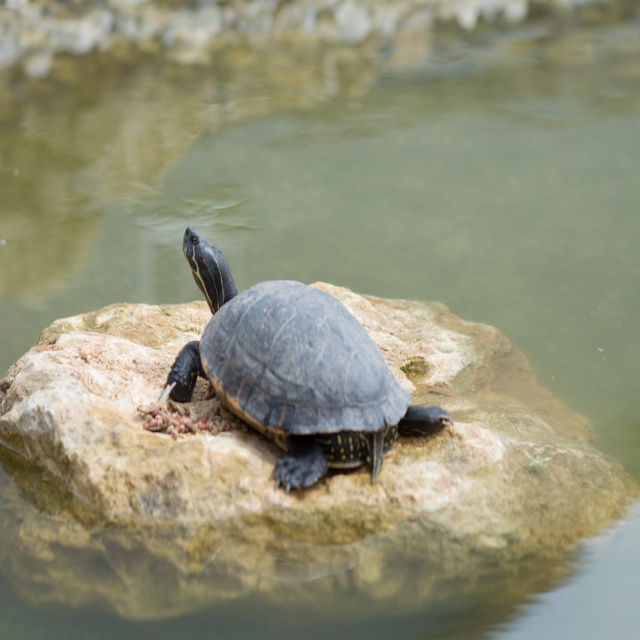Sea turtle: (162, 221, 453, 494)
